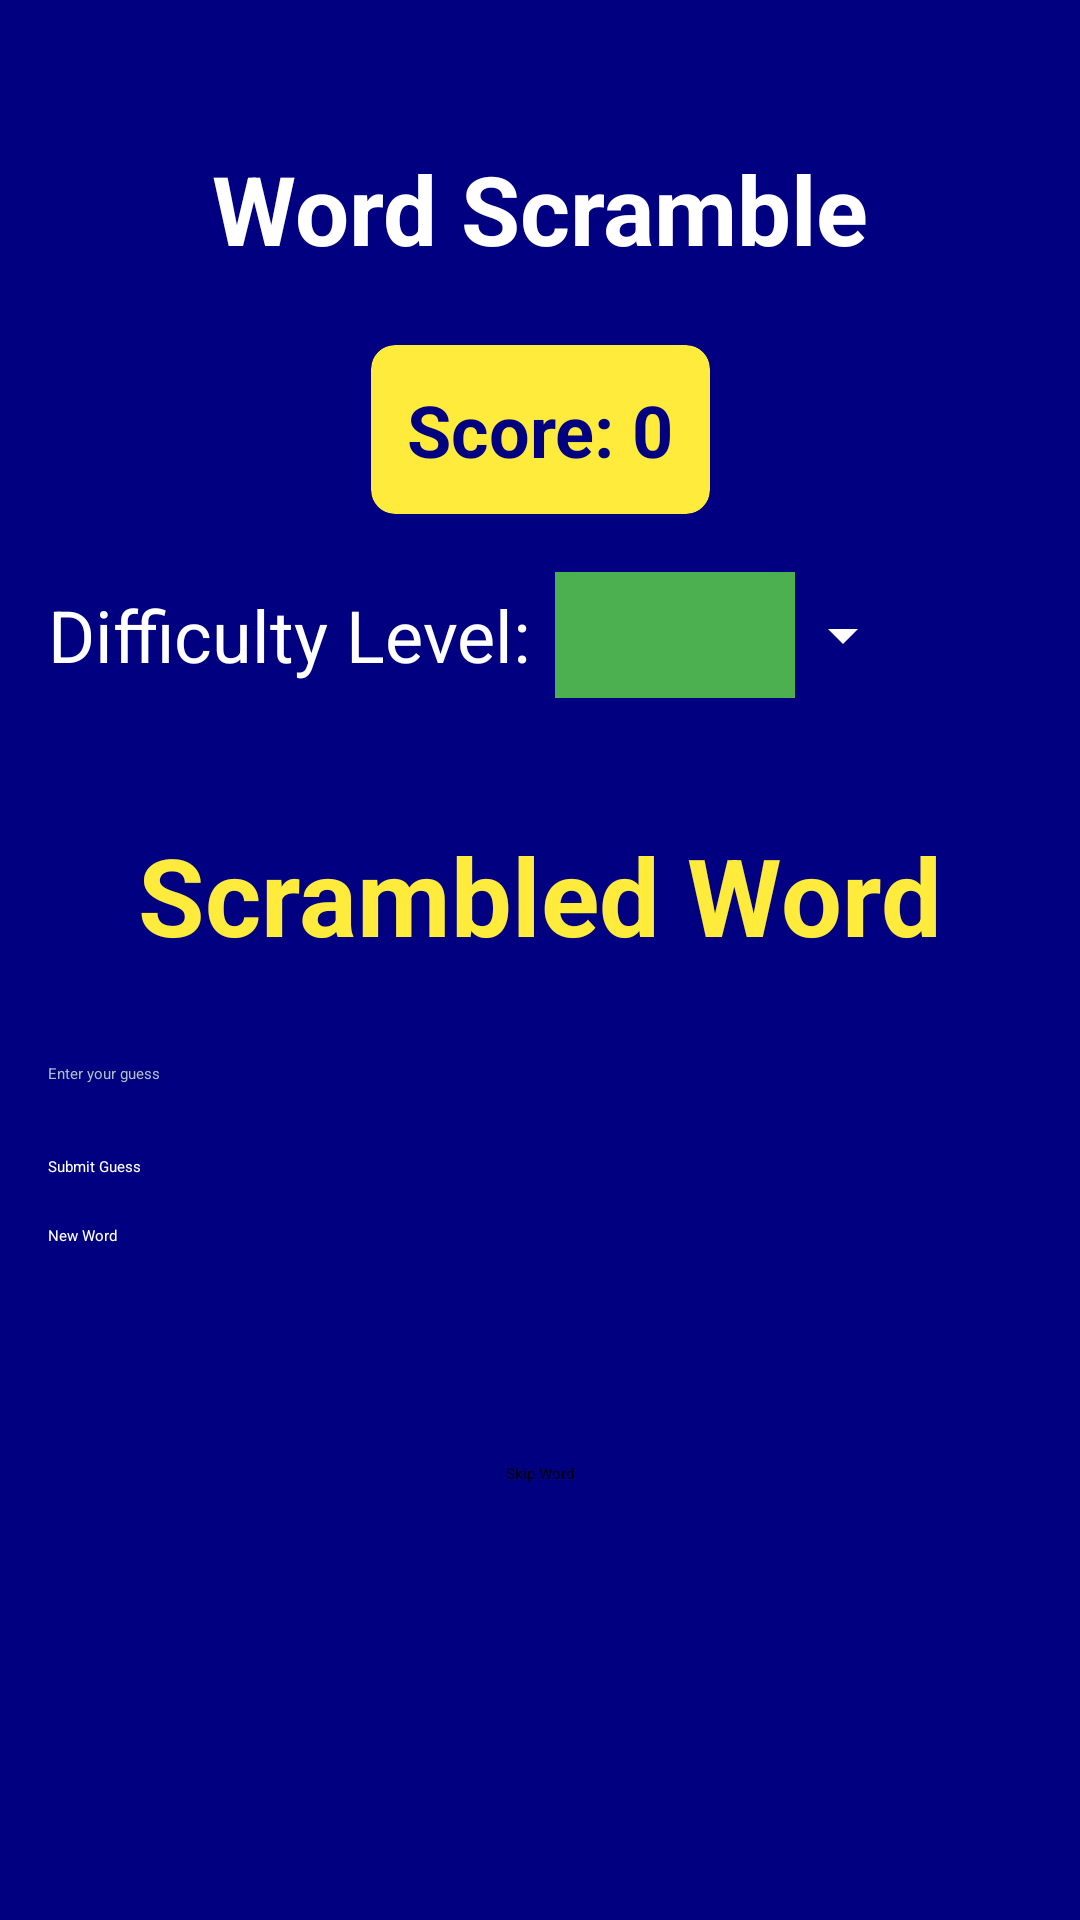

Screen size 1080px x 1920px. Icon name, then its center in pixels as point (x, y):
Dropdown arrow: point (843, 636)
